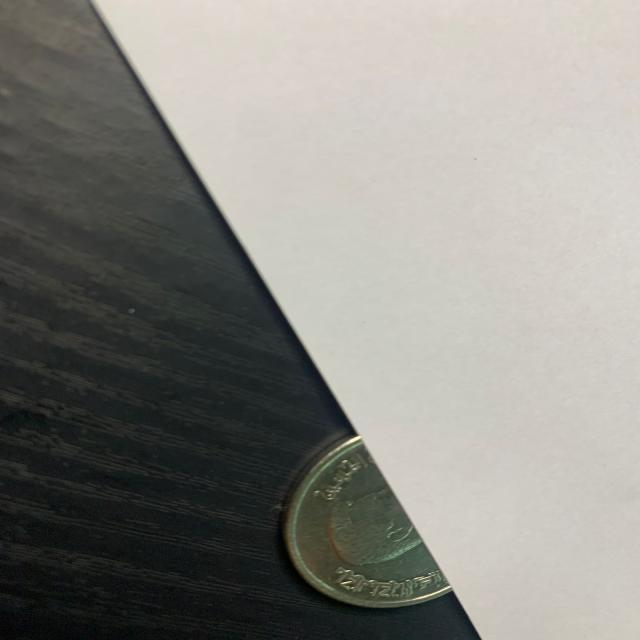10-coins: (277, 432, 453, 608)
